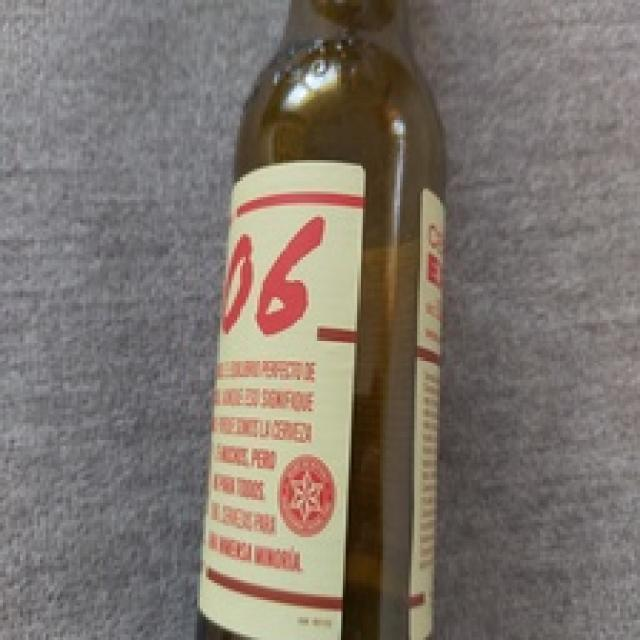Glass: (200, 0, 446, 640)
